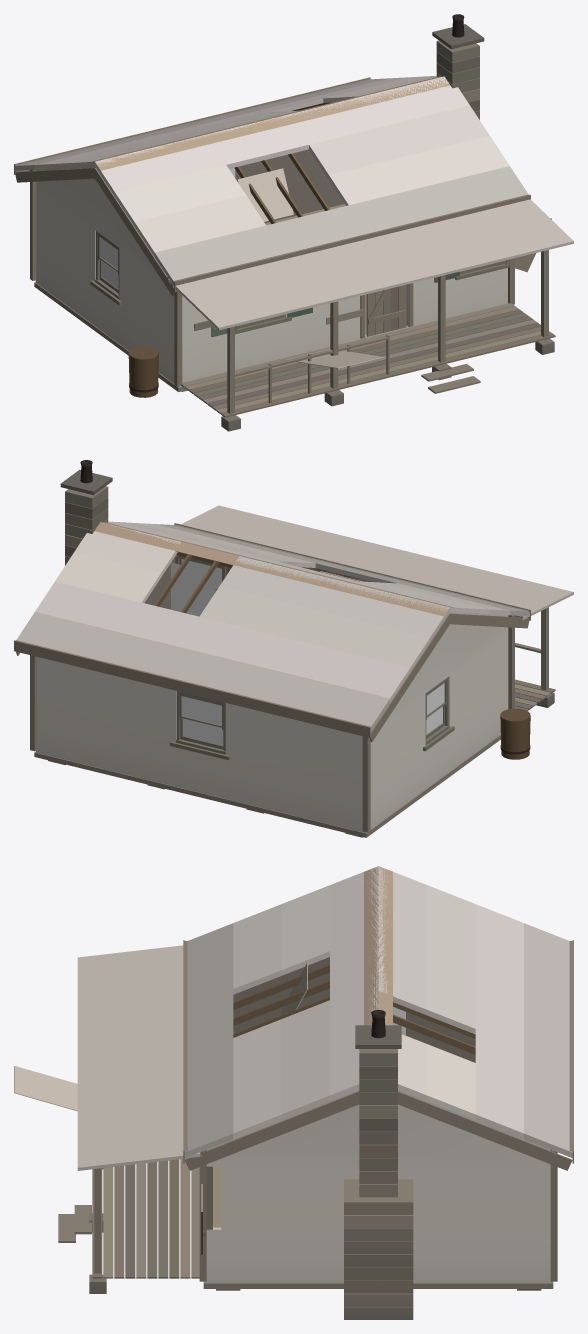
File: cabin_abandoned_a_broken_roof_lod1.glb
The picture shows the model from 3 angles, top to bottom: view 1: azimuth 30°, elevation 25°; view 2: azimuth 150°, elevation 25°; view 3: azimuth 270°, elevation 25°; orthographic projection. The views are drawn at different scales.
Visible parts, largest first — view 1: body, door, windows; view 2: body, windows, window_light; view 3: body.
Boxes of the visible parts, box(x1,y1,x2,y2) form: body: box(14, 14, 573, 431); door: box(366, 284, 406, 336); windows: box(100, 237, 118, 288); body: box(14, 460, 573, 837); windows: box(181, 559, 444, 745); window_light: box(171, 562, 215, 616); body: box(14, 866, 573, 1319).
Size of what is drawn, in the model's own units: 9.85 by 5.62 by 9.67.
